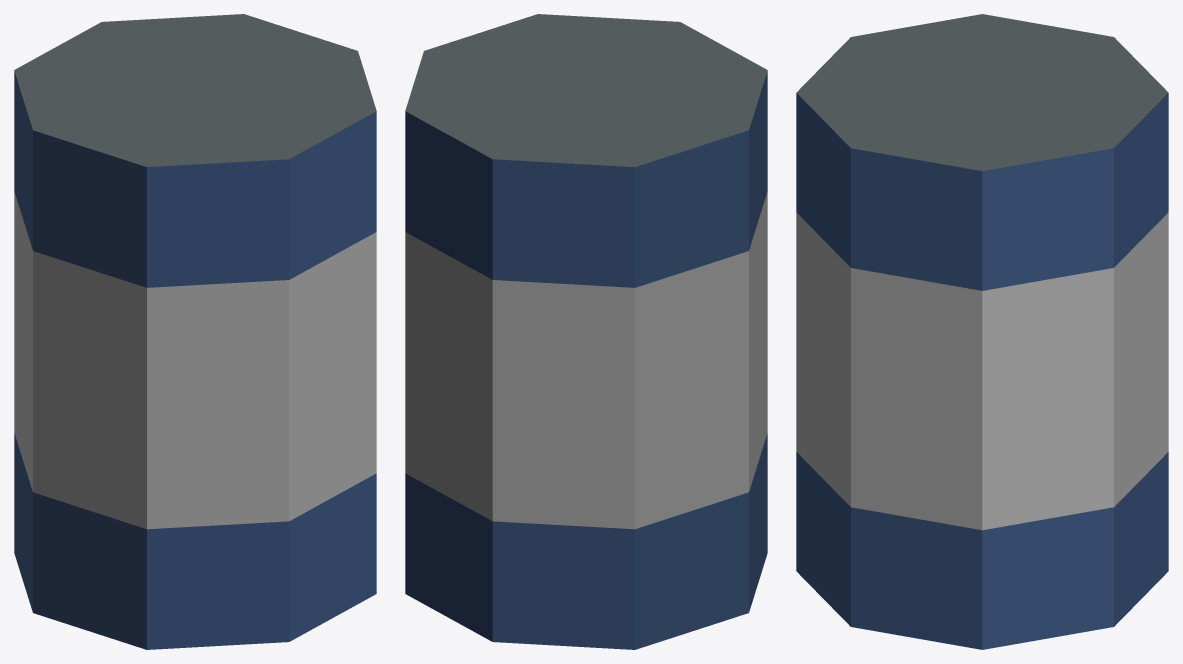
File: barrel_02.fbx
3 renders of one model, left to right at view 1: azimuth 30°, elevation 25°; view 2: azimuth 150°, elevation 25°; view 3: azimuth 270°, elevation 25°, orthographic.
Parts seen in each view (by area): view 1: barrel_01; view 2: barrel_01; view 3: barrel_01.
Boxes of the visible parts, <box> form: barrel_01: <box>14,14,376,649</box>; barrel_01: <box>405,14,767,649</box>; barrel_01: <box>796,14,1168,649</box>.
Bounding box in the file's own units: 1.42 × 2.02 × 1.42.
Materials: 1 (1 with a texture image).
